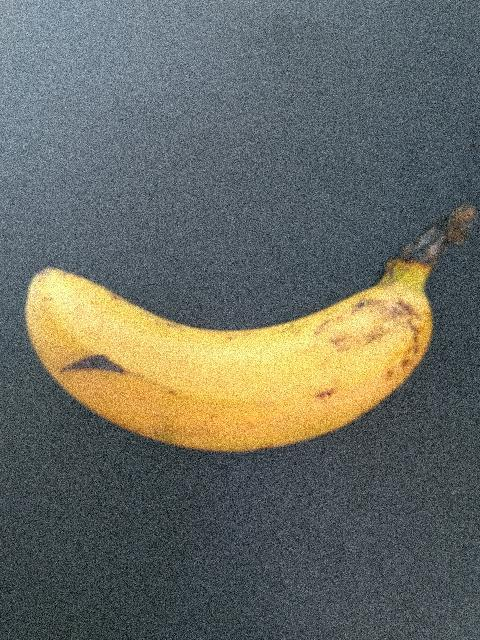ripe: (2, 228, 430, 501)
